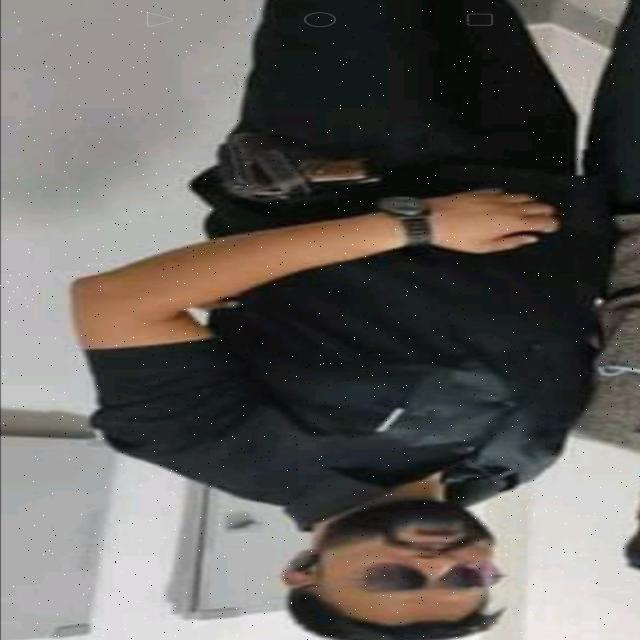gun: (226, 124, 388, 196)
